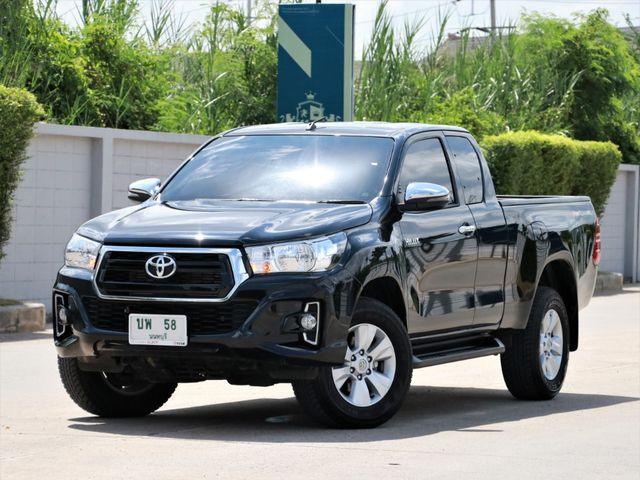pickup: (48, 116, 603, 432)
